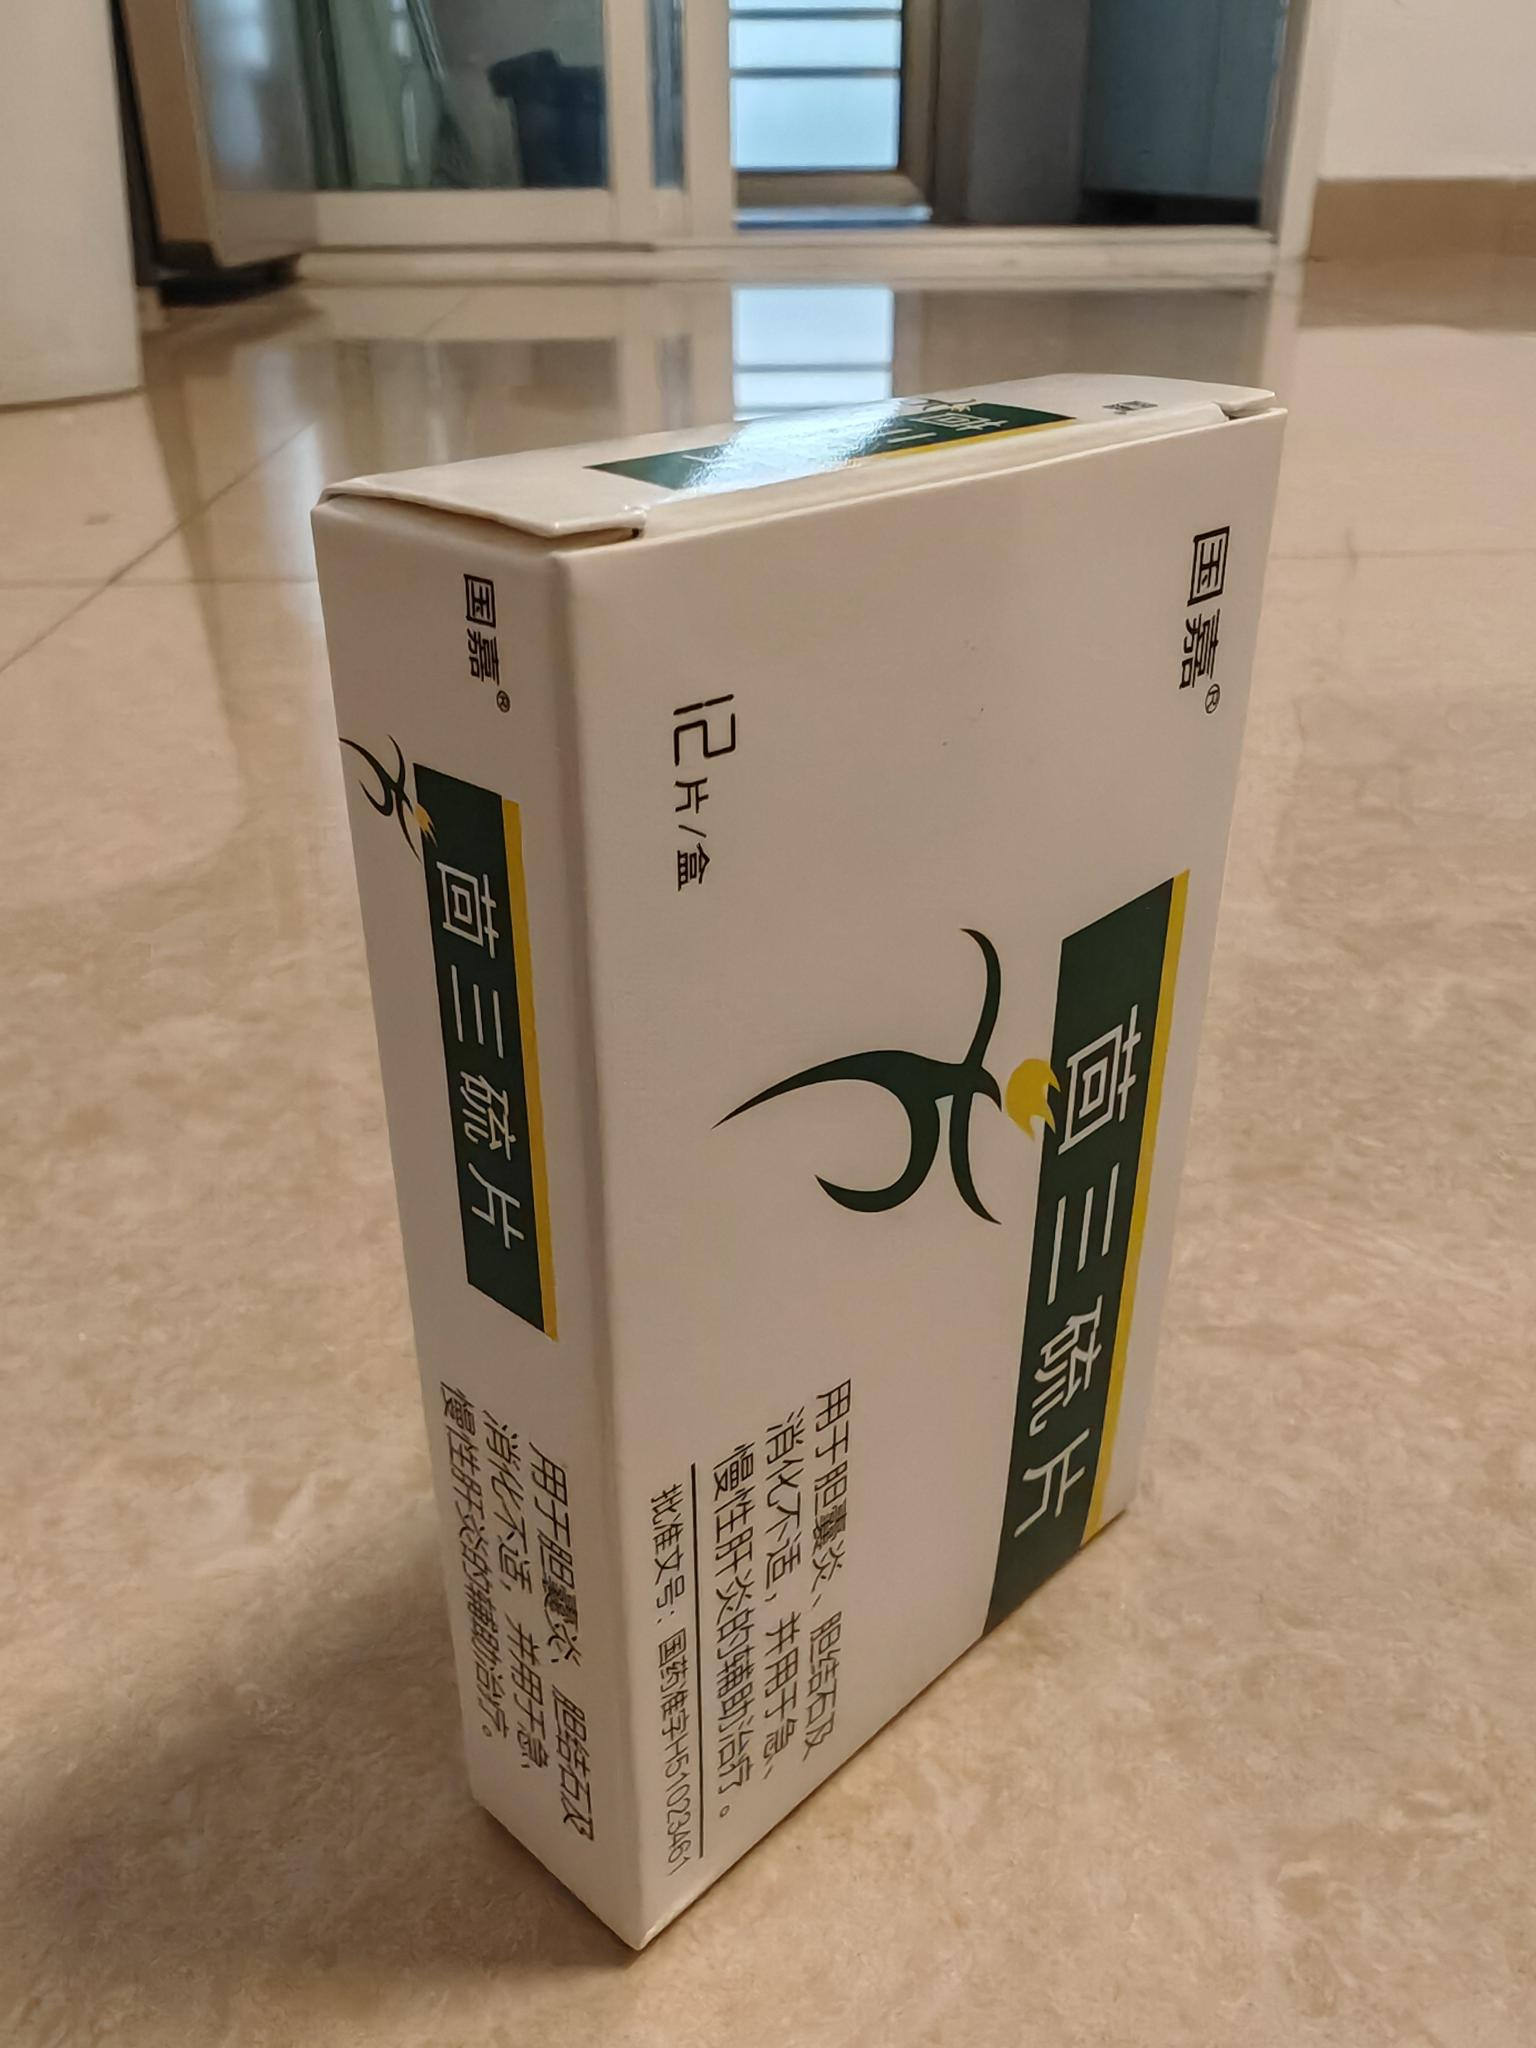Medicine4: (297, 352, 1307, 1972)
